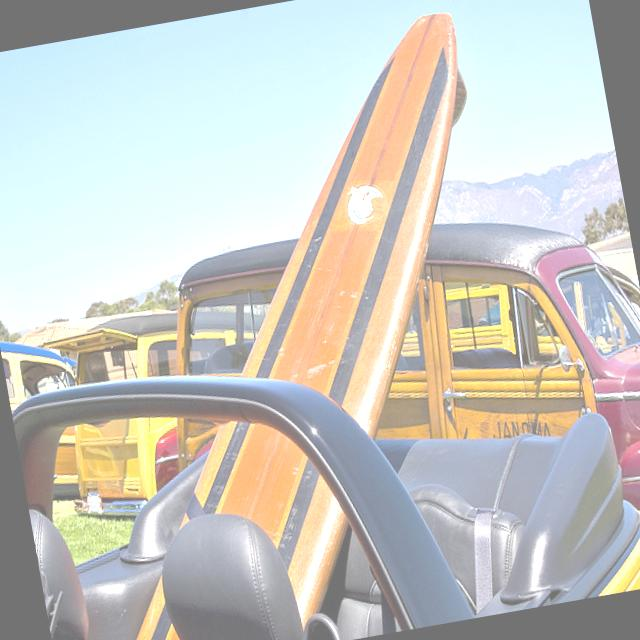Vehicle: (148, 175, 640, 640), (8, 284, 640, 640), (36, 301, 210, 528), (0, 326, 77, 419)
